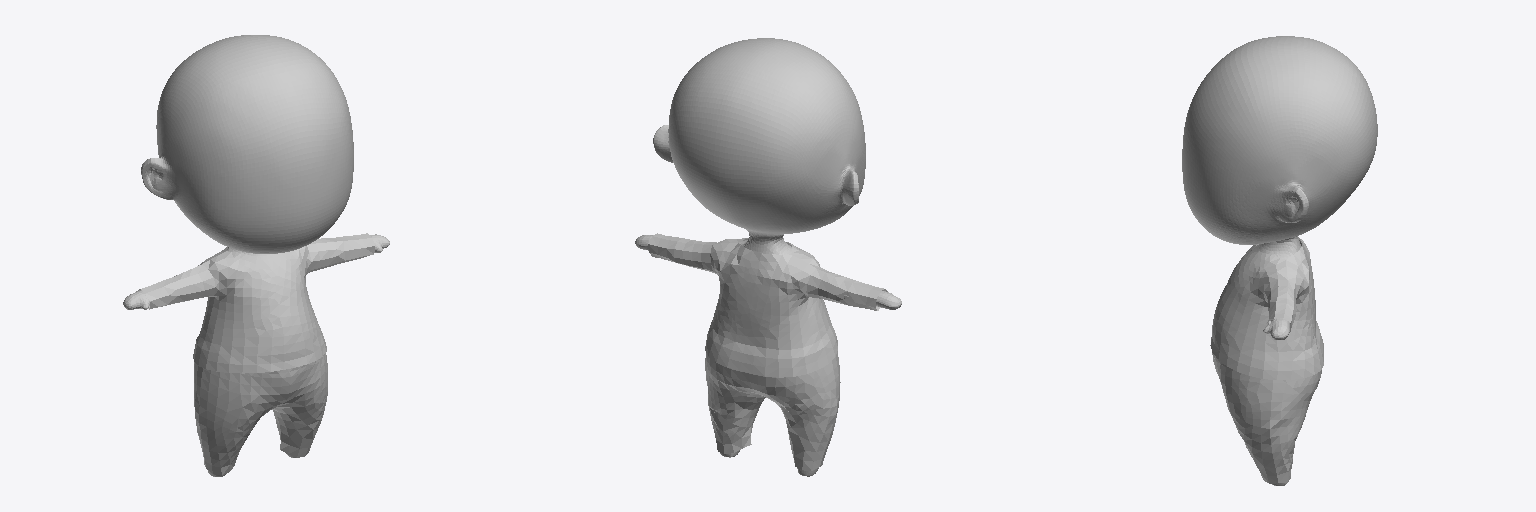
Rendered from basic_clothes.obj.
3 renders of one model, left to right at view 1: azimuth 30°, elevation 25°; view 2: azimuth 150°, elevation 25°; view 3: azimuth 270°, elevation 25°, orthographic.
Parts seen in each view (by area): view 1: Obj_Avatar_Shape0, Pattern2D_10480, Pattern2D_126089, Pattern2D_130864, Pattern2D_103369, Pattern2D_103371; view 2: Obj_Avatar_Shape0, Pattern2D_10481, Pattern2D_126090, Pattern2D_130865, Pattern2D_103370, Pattern2D_103372, Pattern2D_10480; view 3: Obj_Avatar_Shape0, Pattern2D_10480, Pattern2D_10481, Pattern2D_130864, Pattern2D_130865, Pattern2D_103371.
Boxes of the visible parts, x1=… form: Obj_Avatar_Shape0: x1=123, y1=35, x2=389, y2=476; Pattern2D_10480: x1=198, y1=246, x2=326, y2=373; Pattern2D_126089: x1=199, y1=368, x2=291, y2=475; Pattern2D_130864: x1=273, y1=353, x2=327, y2=457; Pattern2D_103369: x1=141, y1=265, x2=215, y2=309; Pattern2D_103371: x1=307, y1=233, x2=374, y2=272; Obj_Avatar_Shape0: x1=635, y1=38, x2=901, y2=476; Pattern2D_10481: x1=705, y1=243, x2=828, y2=377; Pattern2D_126090: x1=749, y1=361, x2=836, y2=470; Pattern2D_130865: x1=705, y1=353, x2=765, y2=453; Pattern2D_103370: x1=806, y1=268, x2=880, y2=310; Pattern2D_103372: x1=648, y1=236, x2=715, y2=273; Pattern2D_10480: x1=713, y1=238, x2=837, y2=362; Obj_Avatar_Shape0: x1=1182, y1=36, x2=1377, y2=485; Pattern2D_10480: x1=1210, y1=244, x2=1287, y2=378; Pattern2D_10481: x1=1263, y1=237, x2=1323, y2=379; Pattern2D_130864: x1=1212, y1=354, x2=1277, y2=483; Pattern2D_130865: x1=1270, y1=370, x2=1321, y2=482; Pattern2D_103371: x1=1264, y1=279, x2=1287, y2=324.
Size of the model in its own units: 56.39 by 85.26 by 36.18.